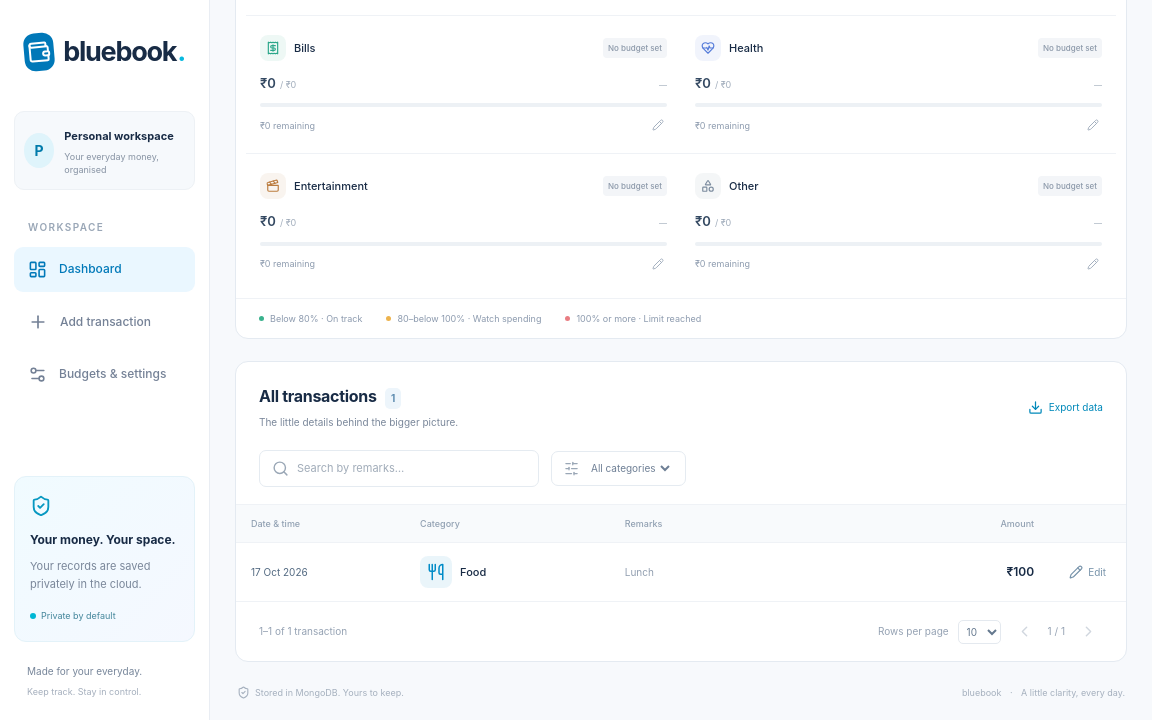
transaction deletion › retains the transaction and reason when cloud persistence fails
(page scrolled)
Click the button with aria-label "Edit Food transaction". click: {"x": 1088, "y": 572}
box: [1064, 560, 1111, 584]
(page scrolled)
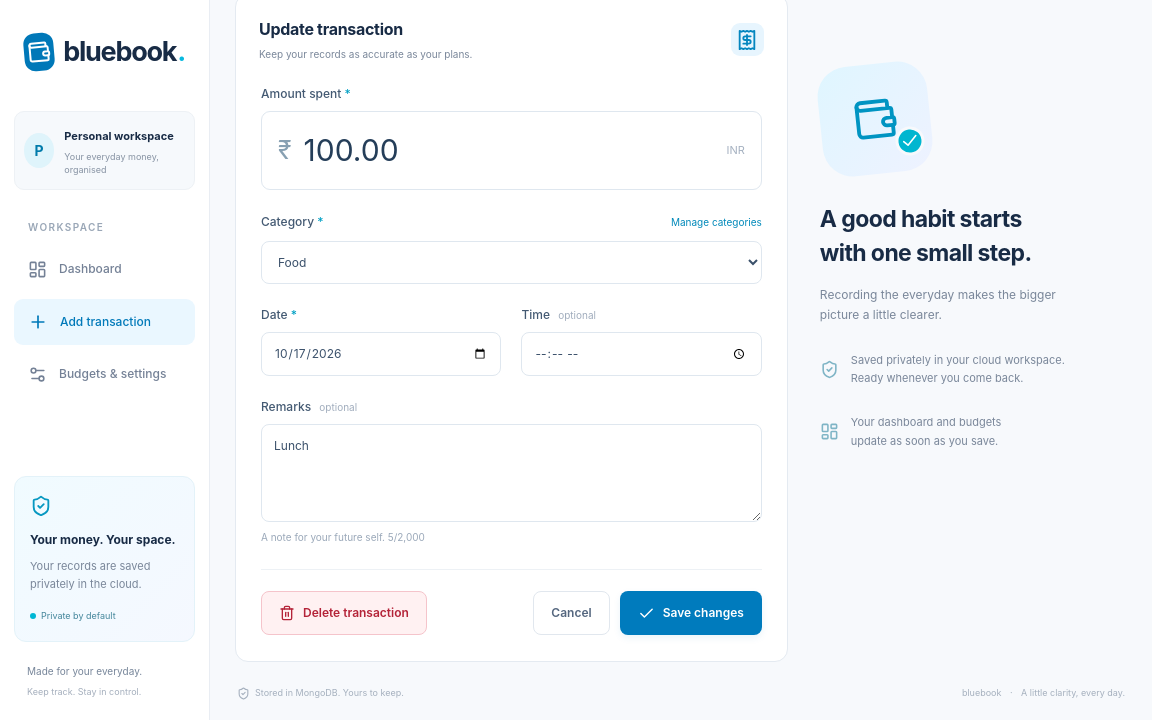
Click the button "Delete transaction". click: {"x": 344, "y": 614}
box: [261, 592, 427, 636]
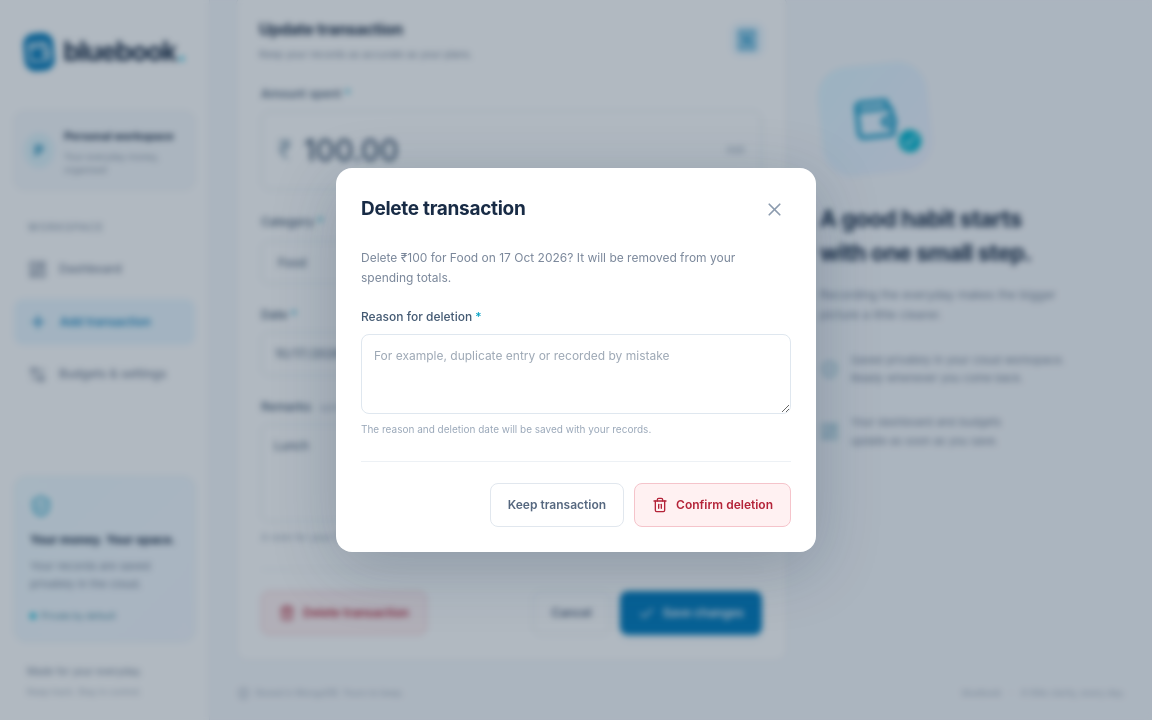
Type "Entered by mistake" into the text box labelled "Reason for deletion *". click: {"x": 576, "y": 374}
box: [361, 334, 791, 414]
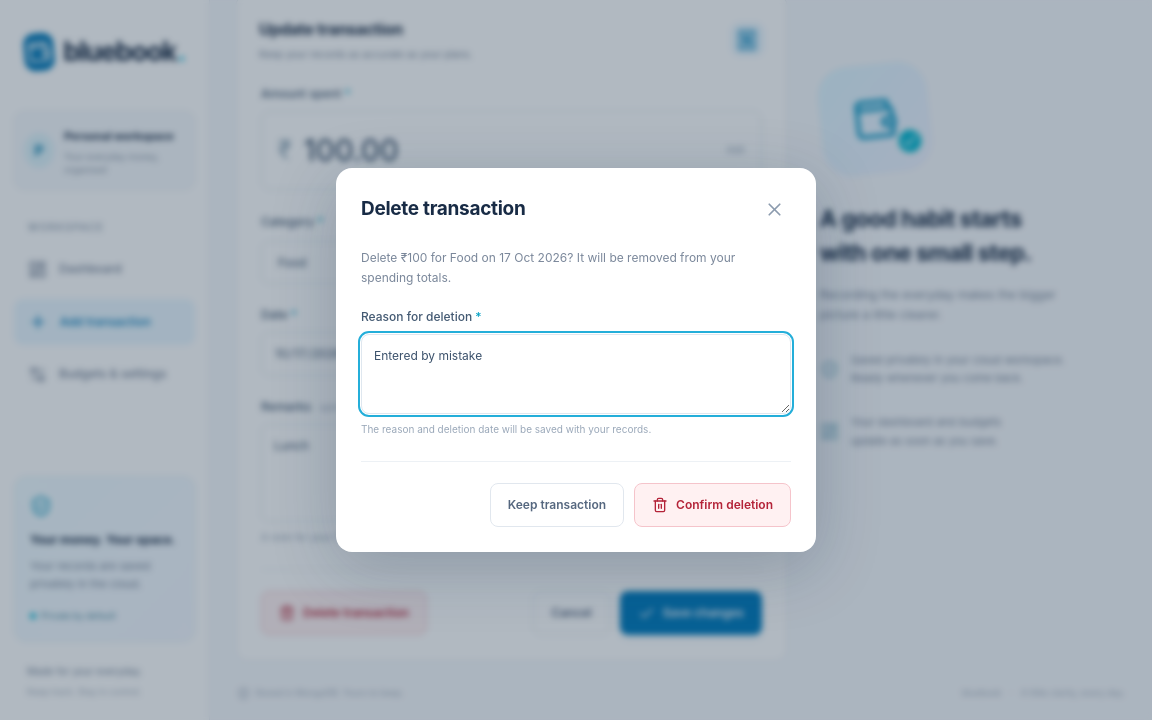
Click the button "Confirm deletion". click: {"x": 713, "y": 505}
box: [634, 483, 791, 527]
(page scrolled)
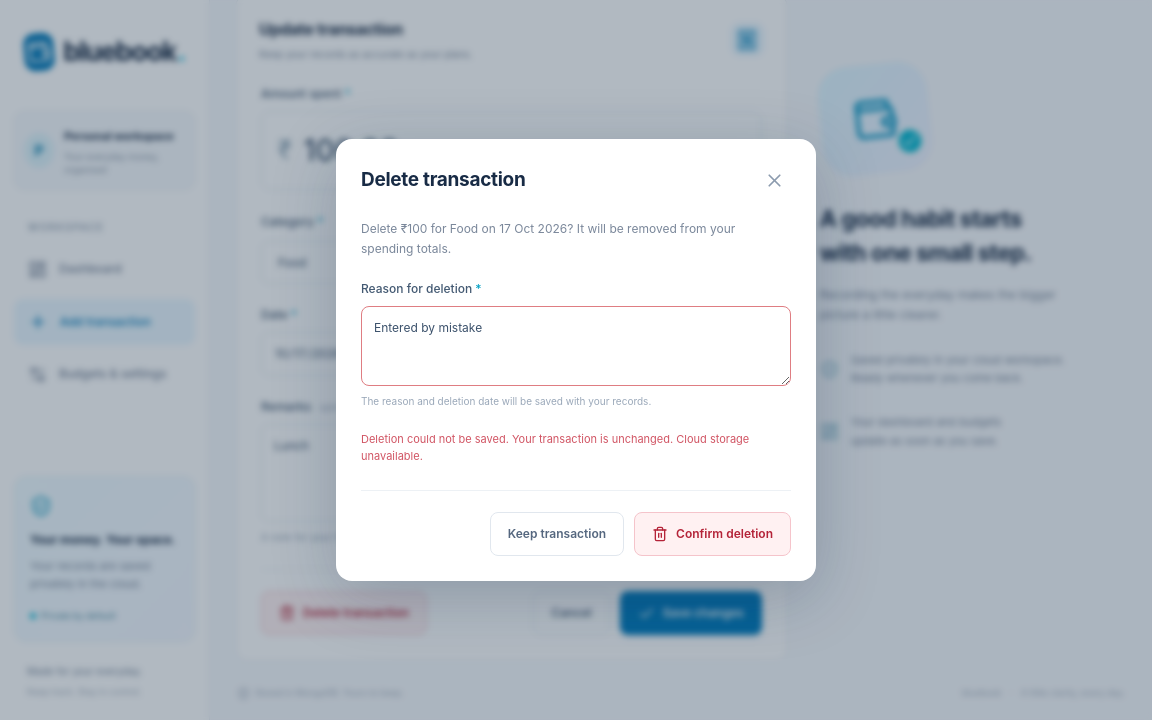
expect the message shows "transaction is unchanged": met, box [361, 432, 673, 446]
